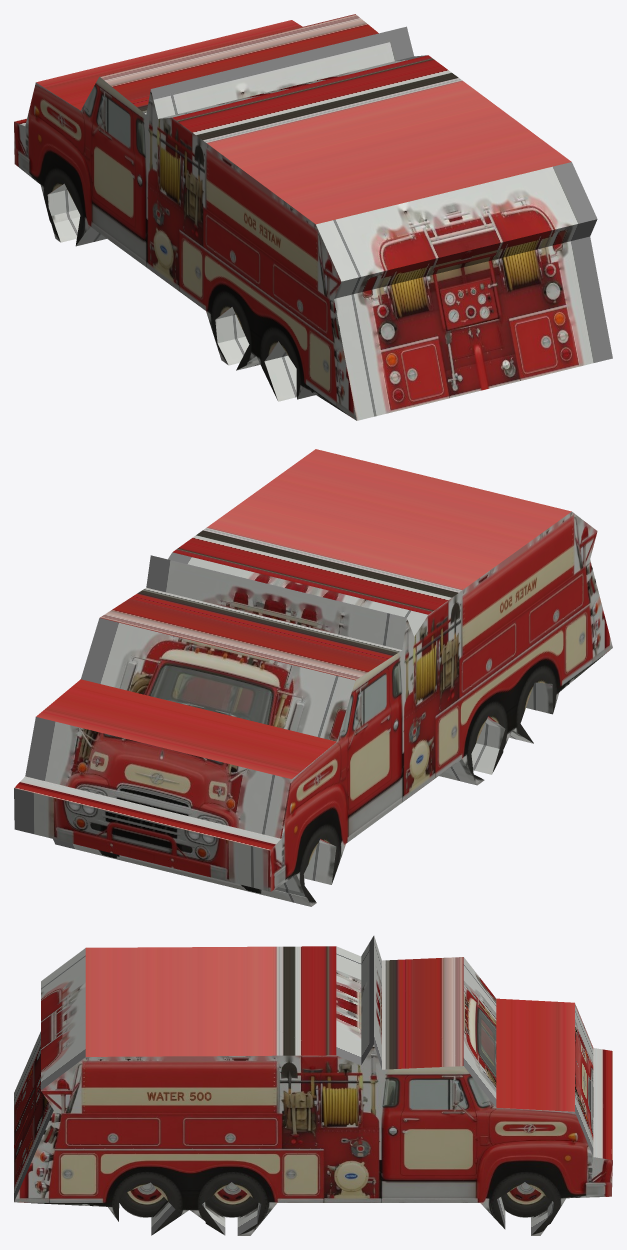
File: brush_truck.glb
3 views of the same model, one above another, from view 1: azimuth 30°, elevation 25°; view 2: azimuth 150°, elevation 25°; view 3: azimuth 270°, elevation 25° (orthographic). The views are drawn at different scales.
Parts seen in each view (by area): view 1: brush_truck; view 2: brush_truck; view 3: brush_truck, wheel_FR, wheel_BR, wheel_M1R.
Boxes of the visible parts, x1,y1,x2,y2 form: brush_truck: (14, 14, 612, 420); brush_truck: (14, 449, 612, 906); brush_truck: (14, 935, 612, 1235); wheel_FR: (501, 1182, 551, 1217); wheel_BR: (119, 1182, 166, 1217); wheel_M1R: (205, 1182, 257, 1217).
Size of the model in its own units: 2.8 by 2.29 by 6.49.
Materials: 3 (1 with a texture image).
